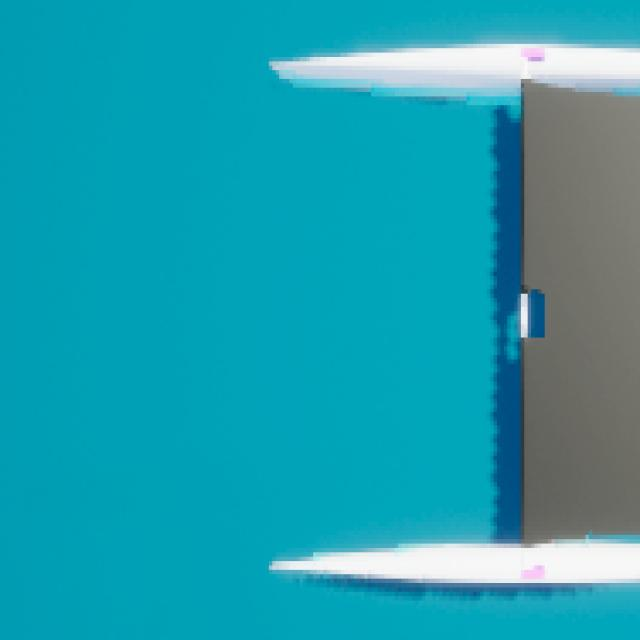boat: (262, 31, 640, 605)
drone: (524, 79, 640, 543)
